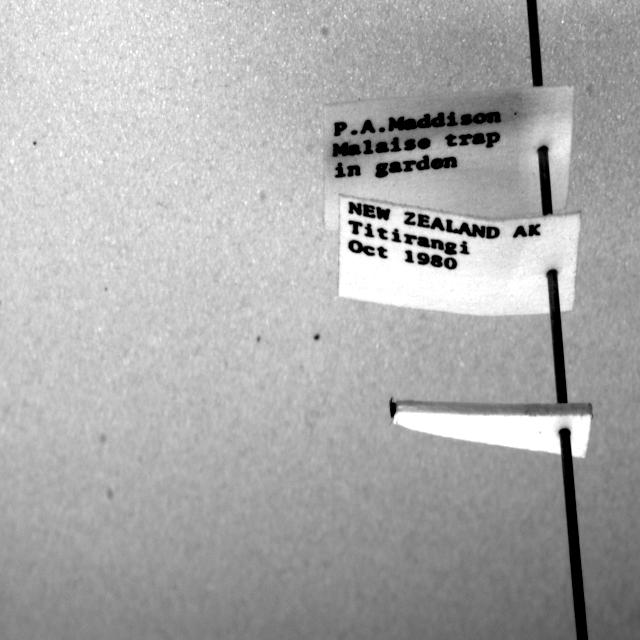typed_label: (324, 86, 574, 231), (339, 195, 580, 315)
